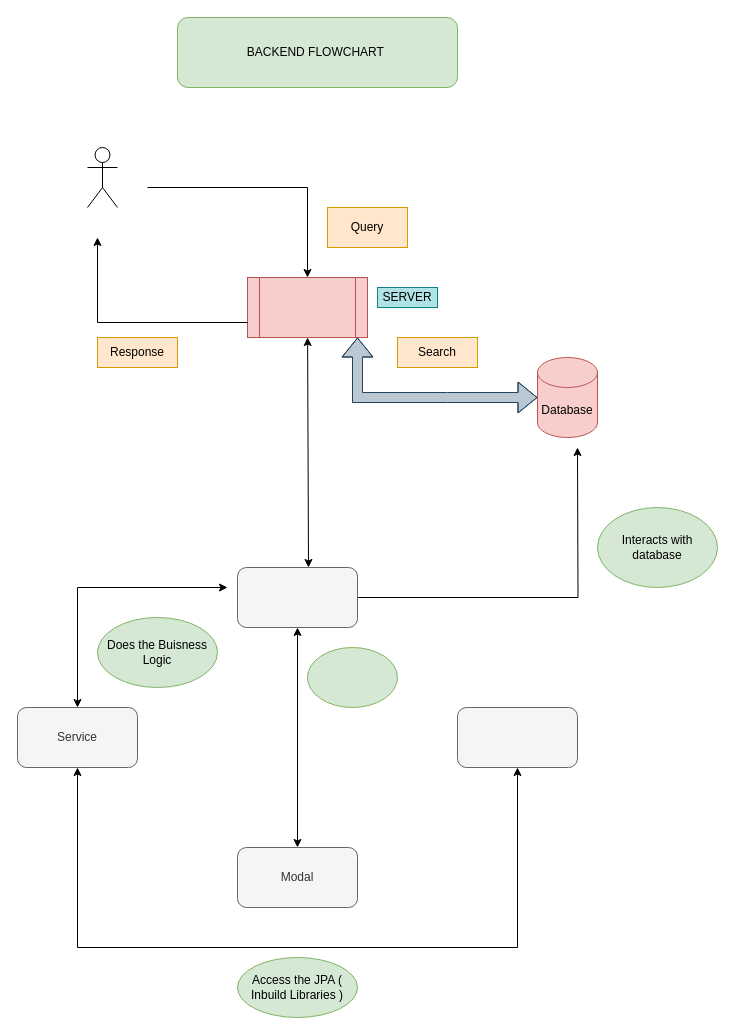
Image size: 735x1035. Some labels were removed from this diagram. Here are the shapes that lost their labels. From the top down, the centre of each, then its label:
the point at 102,177: Client
the point at 307,307: Backend (SPRING BOOT)
the point at 297,597: Controller
the point at 352,677: Fetch the data
the point at 517,737: Repository
